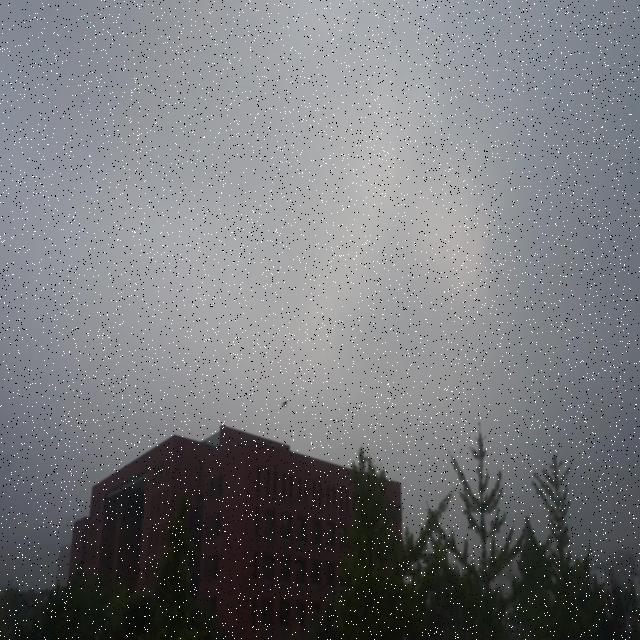UAV: (280, 398, 289, 408)
